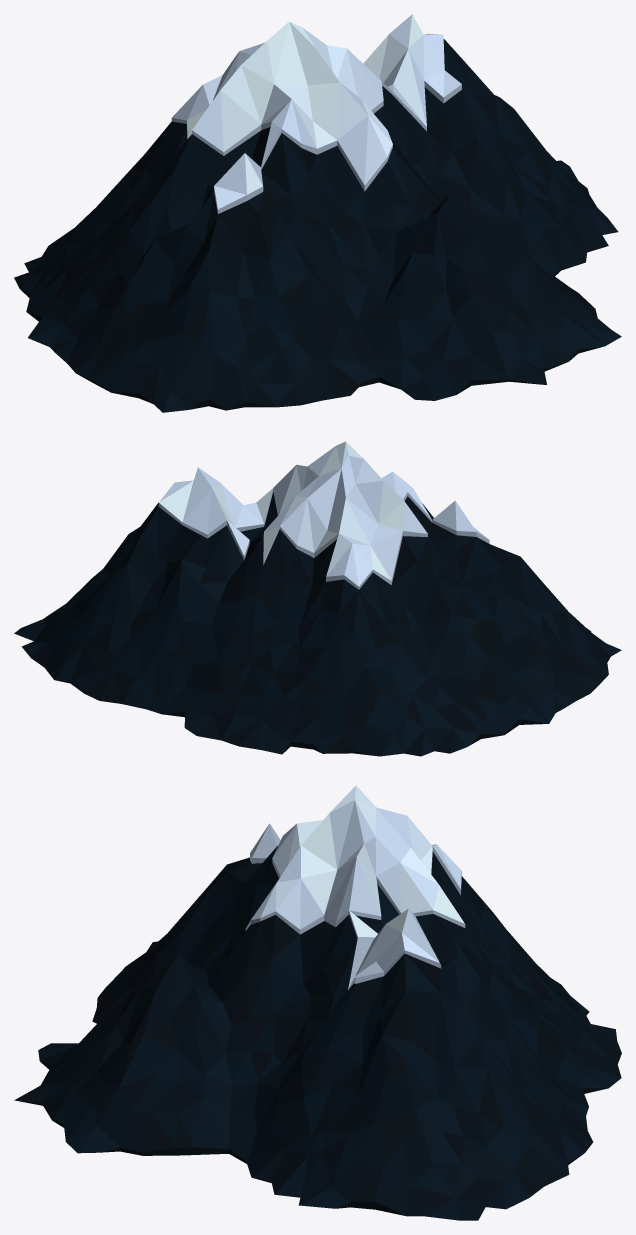
Rendered from ConceptMountain0.fbx.
3 views of the same model, one above another, from view 1: azimuth 30°, elevation 25°; view 2: azimuth 150°, elevation 25°; view 3: azimuth 270°, elevation 25° (orthographic). The views are drawn at different scales.
Visible parts, largest first — view 1: ConceptMountain0; view 2: ConceptMountain0; view 3: ConceptMountain0.
Part boxes in pixels (<box>): ConceptMountain0: <box>14,14,621,412</box>; ConceptMountain0: <box>14,441,621,756</box>; ConceptMountain0: <box>14,785,621,1220</box>.
Bounding box in the file's own units: 2.62 × 1.13 × 2.32.
